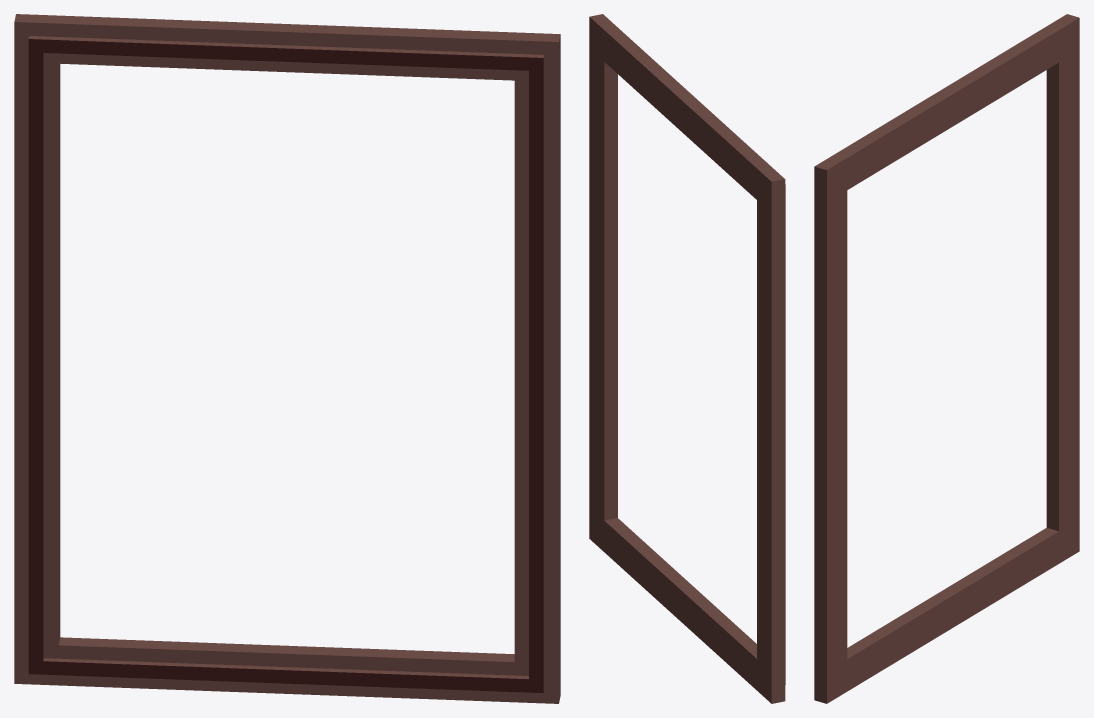
Rendered from 4jf7PTHIMTe.glb.
The picture shows the model from 3 angles, left to right: view 1: azimuth 30°, elevation 25°; view 2: azimuth 150°, elevation 25°; view 3: azimuth 270°, elevation 25°; orthographic projection. The views are drawn at different scales.
Parts seen in each view (by area): view 1: Box001; view 2: Box001; view 3: Box001.
Boxes of the visible parts, bbox=[...] form: Box001: bbox=[14, 14, 560, 703]; Box001: bbox=[589, 14, 785, 703]; Box001: bbox=[814, 14, 1079, 703].
Bounding box in the file's own units: 0.6279 × 1 × 0.4505.
